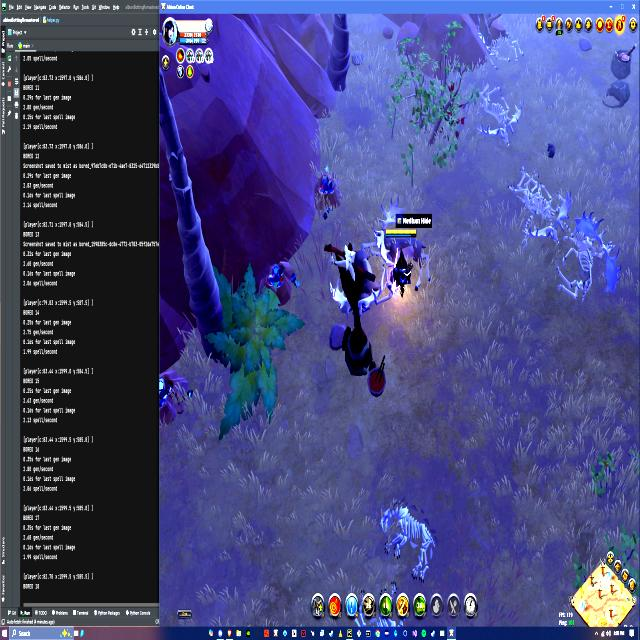mob: (374, 218, 432, 294), (349, 239, 387, 308)
red: (382, 224, 417, 296)
